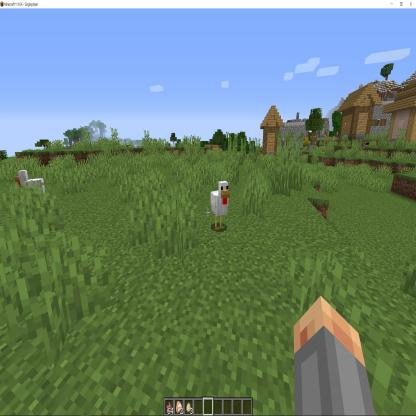minecraft-pigs: (17, 162, 48, 218), (208, 176, 234, 232)
